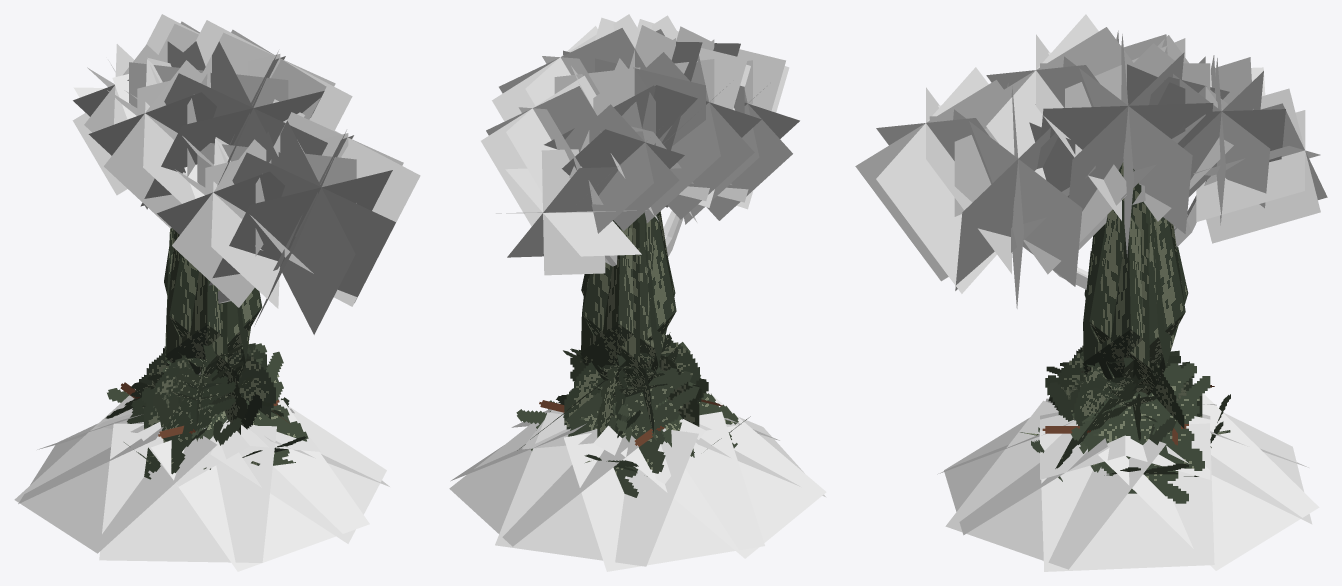
The model's file is Vegetation.fbx.
3 views of the same model, side by side, from view 1: azimuth 30°, elevation 25°; view 2: azimuth 150°, elevation 25°; view 3: azimuth 270°, elevation 25° (orthographic). The views are drawn at different scales.
Parts seen in each view (by area): view 1: Tree_1, Bush_3, Tree_Cypress, Bush_1, Grass_1, Bush_2; view 2: Tree_1, Bush_3, Tree_Cypress, Bush_1, Grass_1, Bush_2; view 3: Tree_1, Bush_3, Tree_Cypress, Bush_1, Grass_1, Bush_2.
Part boxes in pixels (x1=…): Tree_1: x1=72, y1=14, x2=420, y2=374; Bush_3: x1=14, y1=395, x2=389, y2=571; Tree_Cypress: x1=162, y1=228, x2=262, y2=404; Bush_1: x1=105, y1=343, x2=308, y2=479; Grass_1: x1=139, y1=342, x2=275, y2=441; Bush_2: x1=152, y1=346, x2=283, y2=469; Tree_1: x1=481, y1=14, x2=799, y2=275; Bush_3: x1=449, y1=391, x2=826, y2=571; Tree_Cypress: x1=580, y1=211, x2=678, y2=397; Bush_1: x1=516, y1=340, x2=750, y2=497; Grass_1: x1=564, y1=340, x2=699, y2=437; Bush_2: x1=556, y1=355, x2=708, y2=442; Tree_1: x1=855, y1=14, x2=1327, y2=308; Bush_3: x1=937, y1=393, x2=1319, y2=571; Tree_Cypress: x1=1076, y1=162, x2=1188, y2=407; Bush_1: x1=1031, y1=356, x2=1230, y2=503; Grass_1: x1=1053, y1=345, x2=1202, y2=428; Bush_2: x1=1047, y1=350, x2=1192, y2=472.
Bounding box in the file's own units: 554 × 646 × 436.
